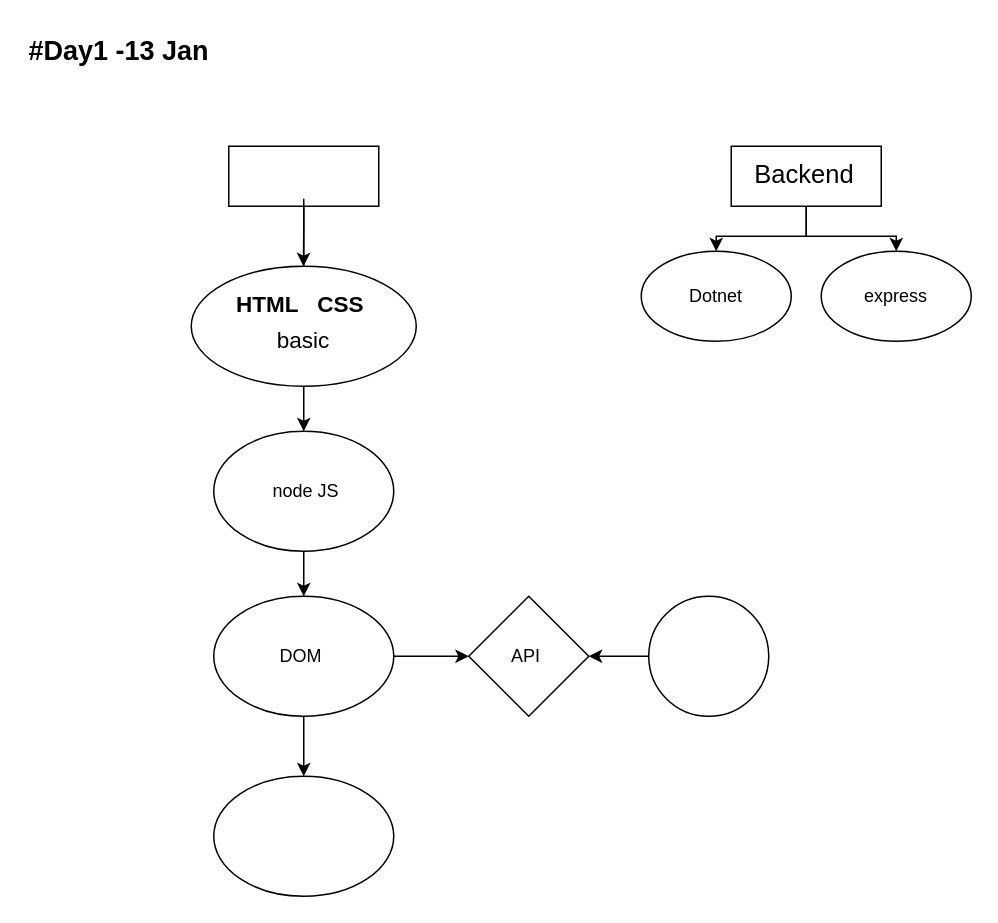
Image size: 998x923. Some labels were removed from this diagram. Here are the shapes that lost their labels. From the top down, the box of each, then its label:
(227, 145, 379, 206): Frontend
(647, 595, 769, 716): Mango
(212, 775, 394, 896): React/Angular
